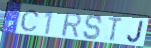1: (44, 10, 54, 36)
C: (19, 9, 41, 33)
J: (126, 20, 145, 44)
R: (61, 12, 82, 39)
S: (83, 13, 104, 41)
T: (107, 16, 124, 42)
